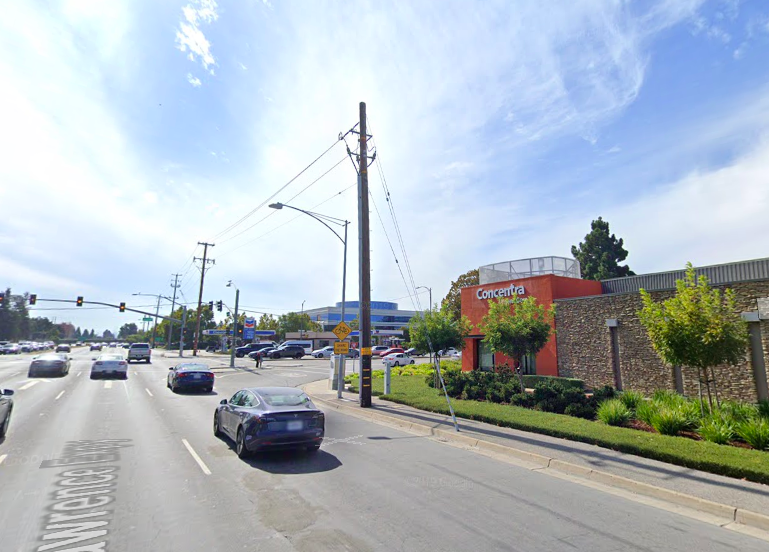utility_pole: (336, 92, 383, 181), (190, 233, 220, 277)
